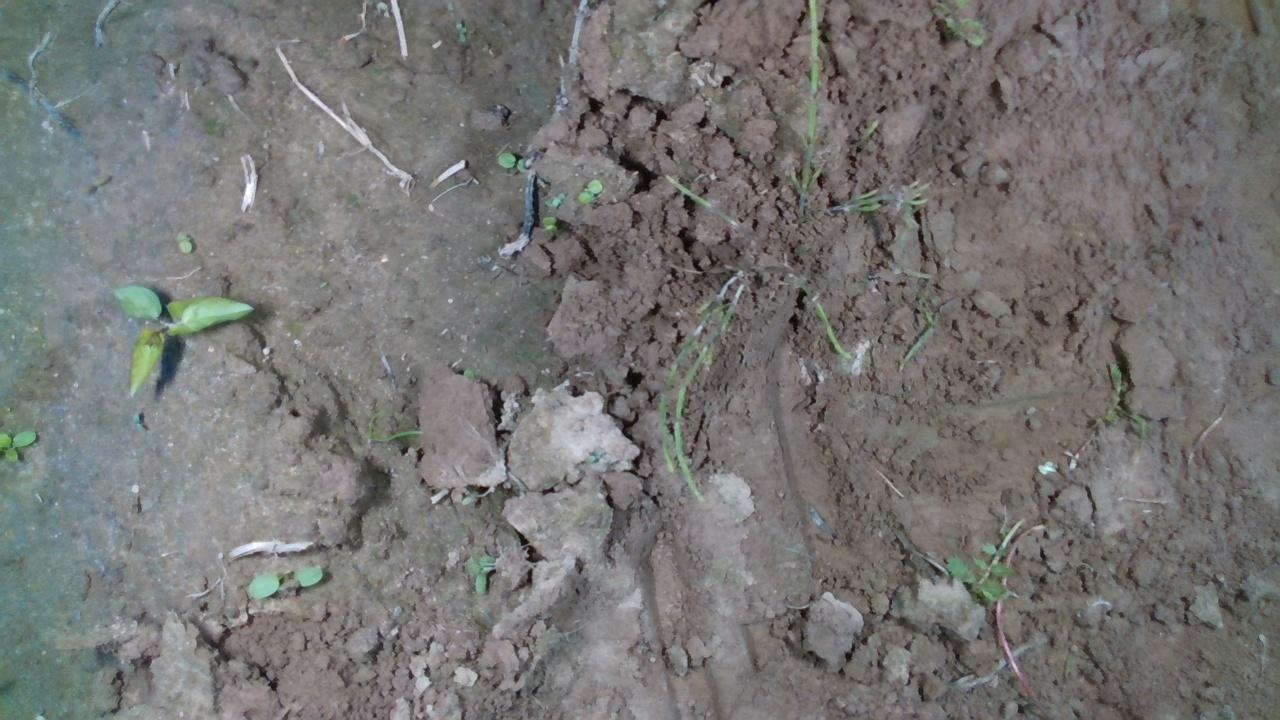weed: (245, 560, 323, 599), (495, 152, 531, 173), (577, 176, 603, 203), (175, 230, 195, 254), (539, 214, 558, 233)
